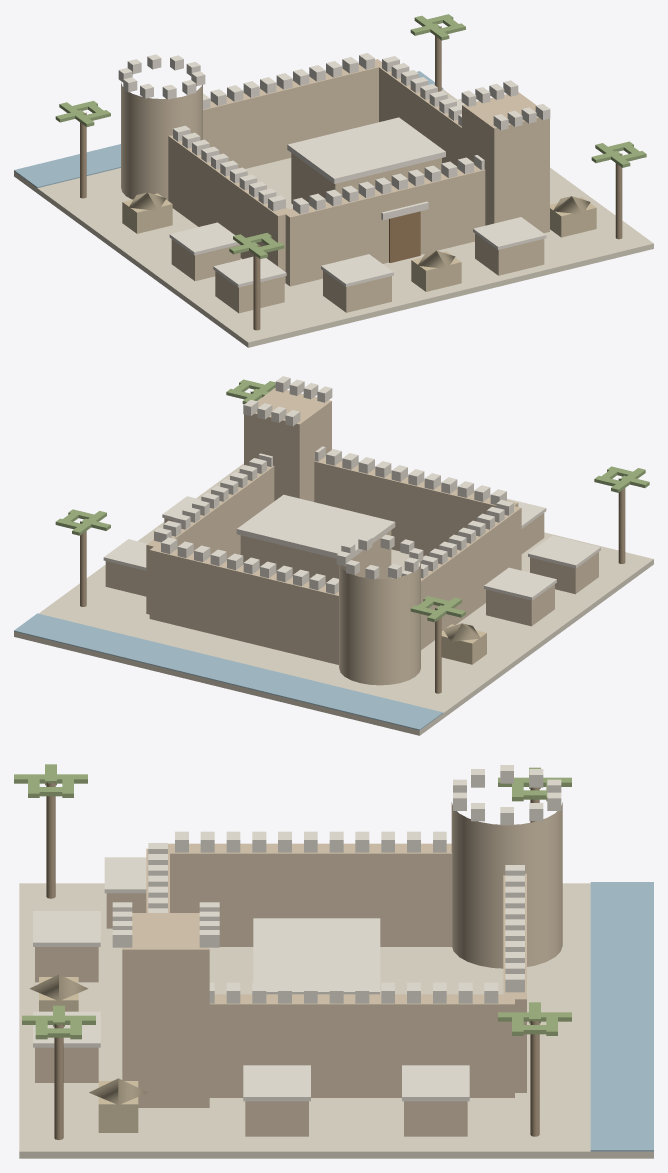
Rendered from al-hisn-1823.glb.
3 renders of one model, top to bottom at view 1: azimuth 30°, elevation 25°; view 2: azimuth 150°, elevation 25°; view 3: azimuth 270°, elevation 25°, orthographic. The views are drawn at different scales.
Parts seen in each view (by area): view 1: al-hisn-1823.glb; view 2: al-hisn-1823.glb; view 3: al-hisn-1823.glb.
Boxes of the visible parts, x1=… form: al-hisn-1823.glb: x1=14, y1=14, x2=653, y2=347; al-hisn-1823.glb: x1=14, y1=376, x2=653, y2=735; al-hisn-1823.glb: x1=14, y1=764, x2=653, y2=1158.
Bounding box in the file's own units: 1.62 × 0.495 × 1.61.
